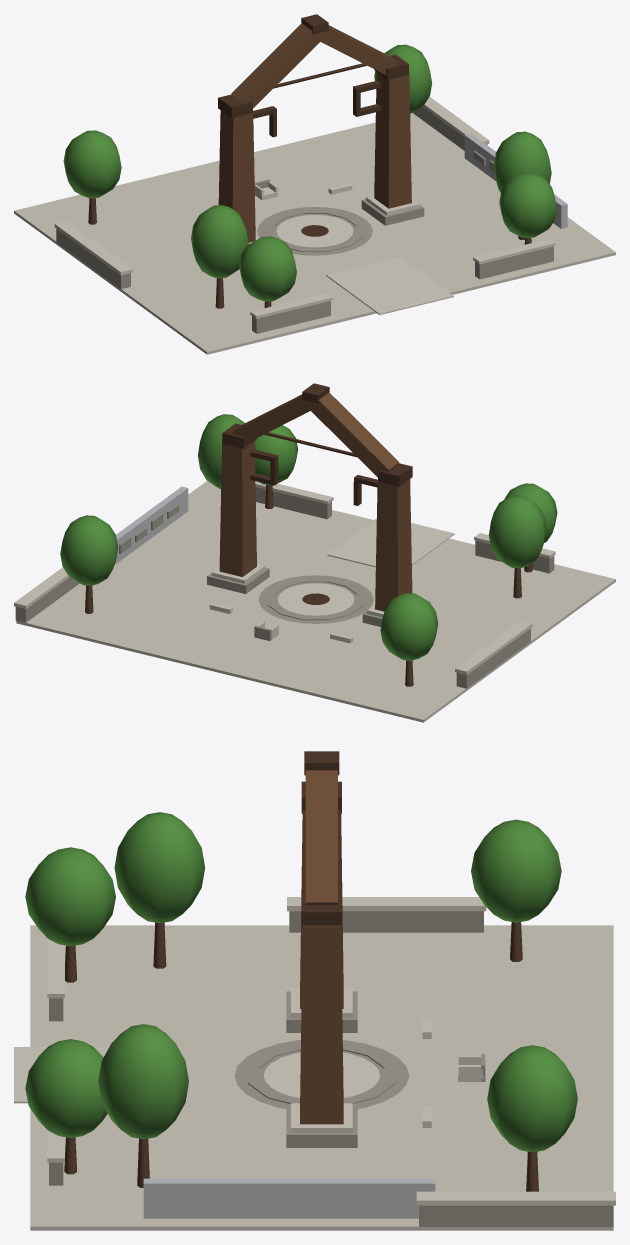
Rendered from snu-main-gate.glb.
3 renders of one model, top to bottom at view 1: azimuth 30°, elevation 25°; view 2: azimuth 150°, elevation 25°; view 3: azimuth 270°, elevation 25°, orthographic. The views are drawn at different scales.
Bounding box in the file's own units: 44.3 × 22 × 37.15.
